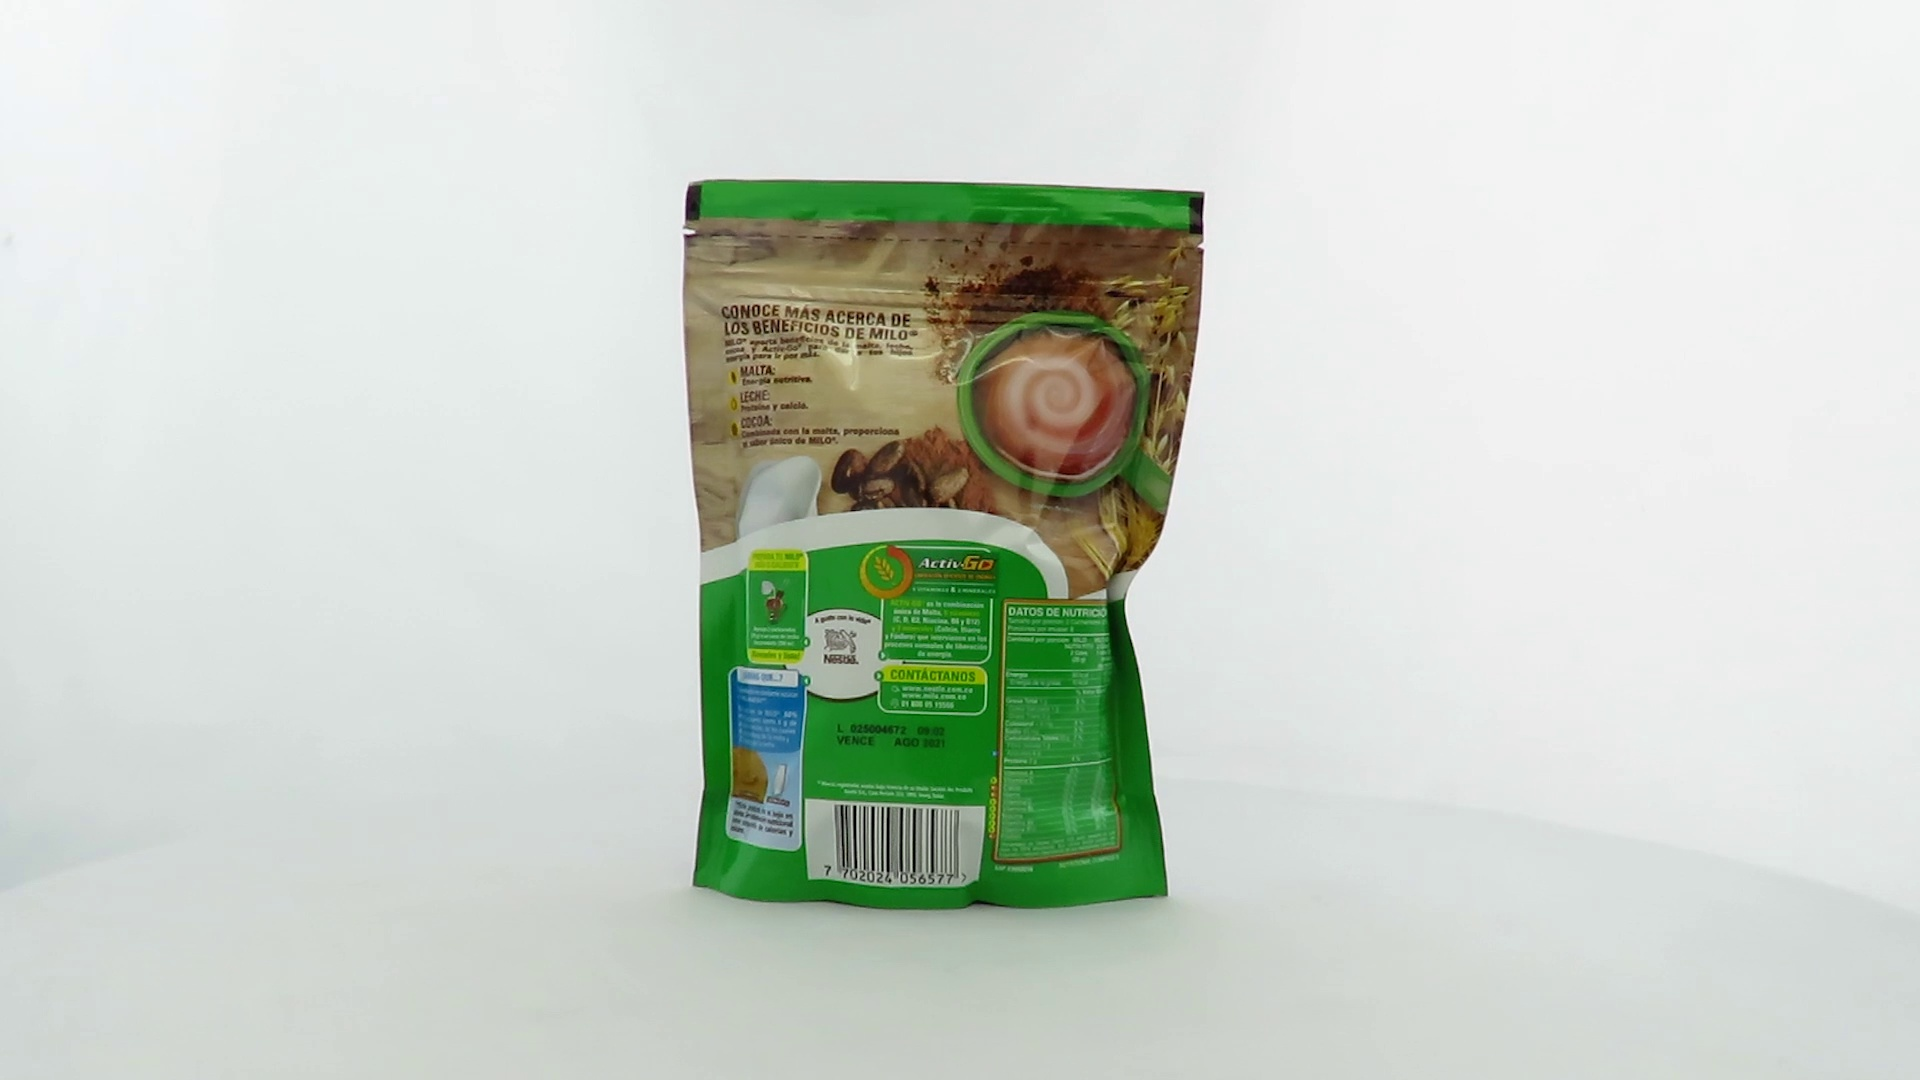COL0170205DYP20000: (676, 174, 1211, 916)
